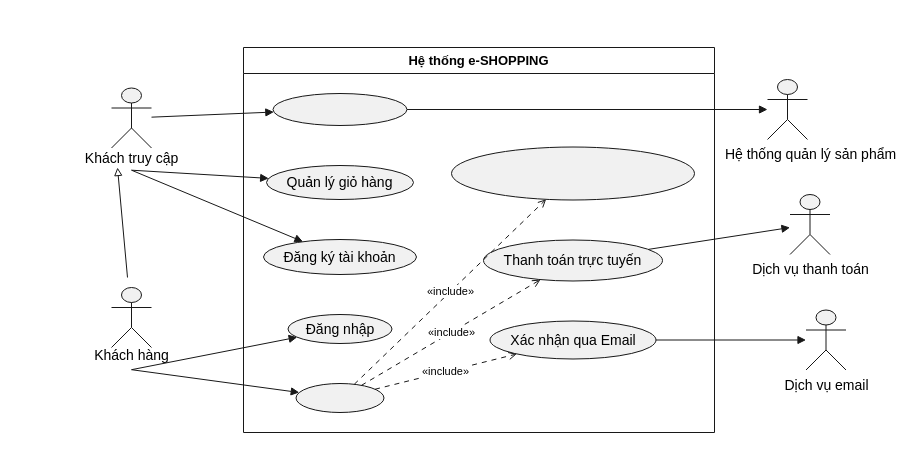
Image size: 923x450. Some labels were removed from this diagram. Here are the shapes that lost their labels. From the top down, the centre of each, then its label:
At [339,109]: "Xem sản phẩm".
At [572,173]: "Nhập thông tin giao hàng & Tính phí".
At [339,397]: "Đặt hàng".
